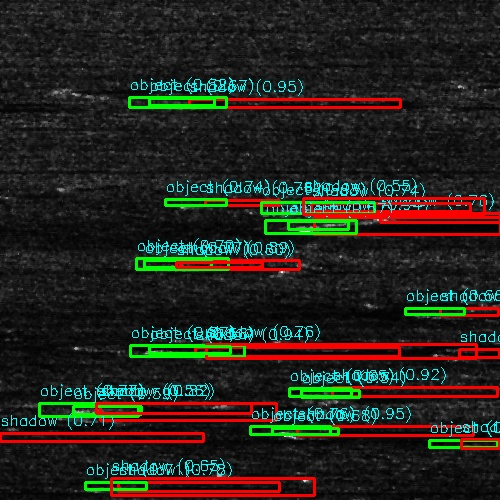rock: (290, 209, 383, 242), (31, 337, 166, 356), (139, 343, 274, 362), (30, 406, 123, 423), (41, 399, 134, 416), (268, 201, 361, 212), (450, 77, 500, 94), (262, 425, 325, 438), (289, 386, 352, 397), (165, 99, 238, 108), (83, 482, 156, 491), (186, 260, 249, 269), (424, 308, 487, 315), (39, 87, 92, 92)
shadow: (99, 337, 500, 356), (207, 343, 500, 362), (337, 209, 500, 242), (77, 406, 272, 423), (88, 399, 282, 416), (294, 425, 455, 438), (321, 386, 500, 397), (202, 99, 385, 108), (315, 201, 455, 212), (120, 482, 279, 491), (218, 260, 309, 269), (66, 87, 198, 92), (456, 308, 500, 315)
